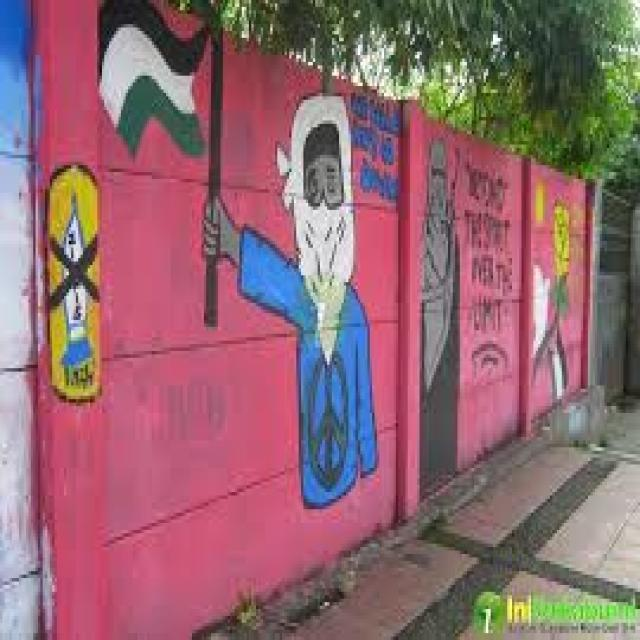-: (99, 2, 378, 512), (46, 162, 106, 410), (422, 142, 462, 490), (468, 163, 510, 377), (534, 187, 576, 400), (349, 85, 401, 207)
